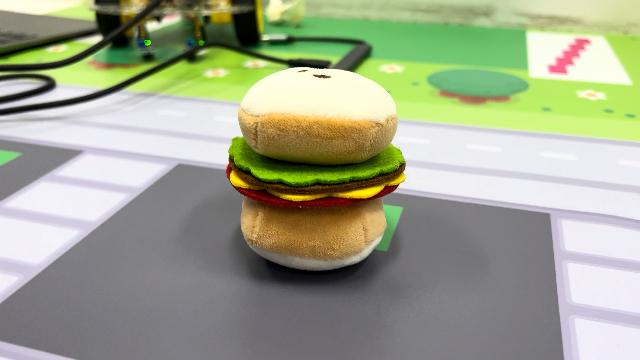sandwich: (224, 63, 408, 272)
